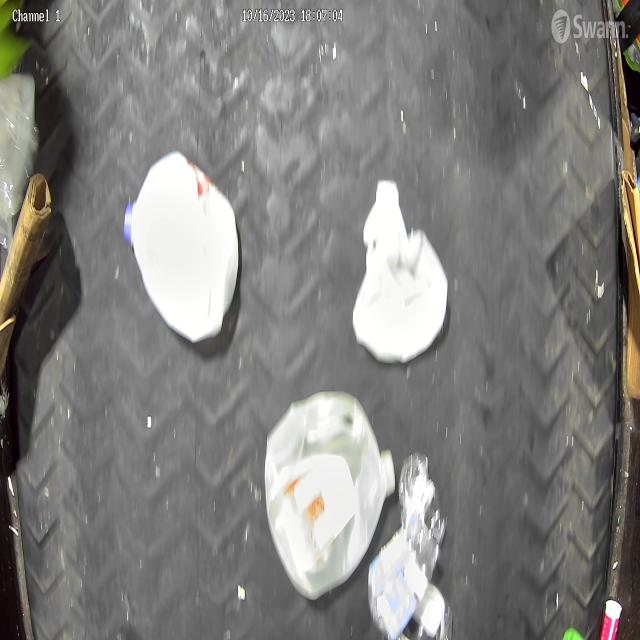milk_jug: (264, 389, 396, 603), (125, 152, 245, 348), (350, 176, 449, 359)
